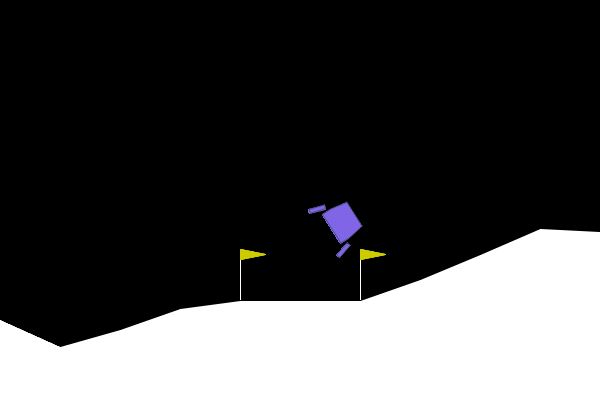lander: (306, 188, 372, 260)
